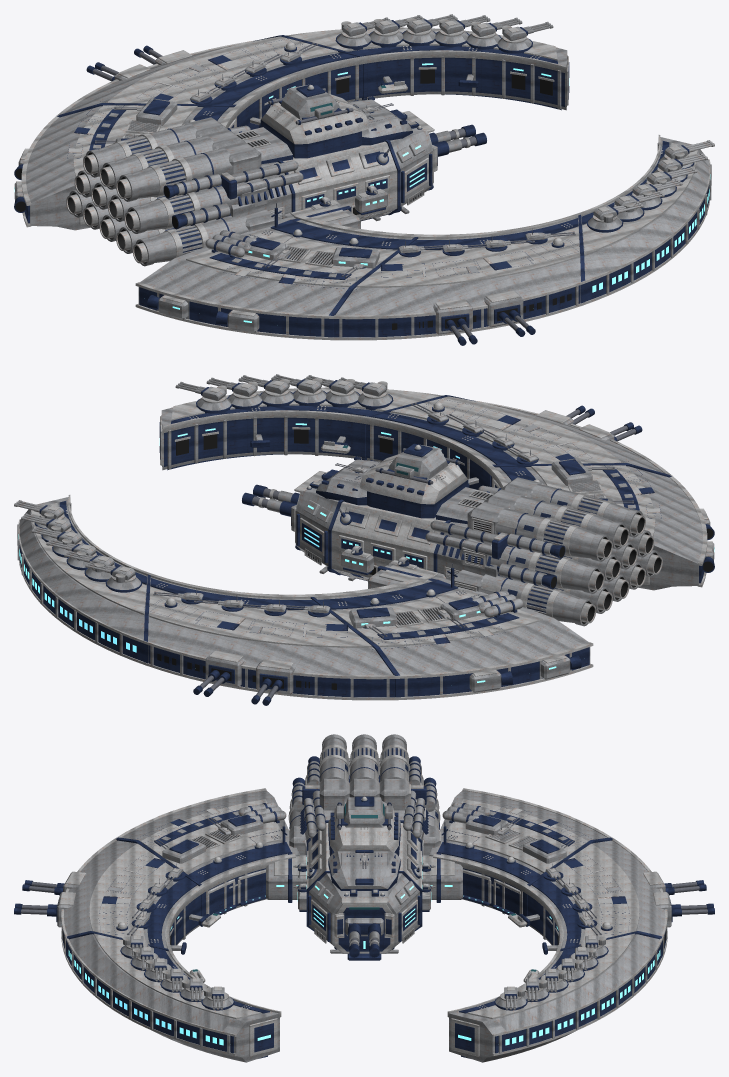
The model's file is 機戰風_聯盟.glb.
3 renders of one model, top to bottom at view 1: azimuth 30°, elevation 25°; view 2: azimuth 150°, elevation 25°; view 3: azimuth 270°, elevation 25°, orthographic. The views are drawn at different scales.
Parts seen in each view (by area): view 1: arm_aft_mid.R, arm_mid_light.R, arm_mid_mid.R, arm_mid_light, arm_fore_dark, core_mid_light, arm_aft_light.R, arm_aft_mid, arm_mid_dark.R, arm_aft_dark.R, arm_fore_mid.R, arm_mid_dark (+37 smaller); view 2: arm_aft_mid, arm_mid_light, arm_mid_mid, arm_mid_light.R, arm_fore_dark.R, core_mid_light, arm_aft_light, arm_aft_mid.R, arm_mid_dark, arm_aft_dark, arm_fore_mid, arm_mid_dark.R (+37 smaller); view 3: arm_mid_light, arm_mid_light.R, arm_fore_mid, arm_fore_mid.R, arm_aft_mid.R, arm_aft_mid, arm_aft_light, arm_aft_light.R, arm_aft_dark, arm_aft_dark.R, arm_fore_light, arm_fore_light.R (+25 smaller).
Part boxes in pixels (x1=…): arm_aft_mid.R: x1=138, y1=205, x2=412, y2=336; arm_mid_light.R: x1=330, y1=213, x2=582, y2=340; arm_mid_mid.R: x1=335, y1=217, x2=580, y2=337; arm_mid_light: x1=56, y1=36, x2=366, y2=115; arm_fore_dark: x1=253, y1=35, x2=569, y2=110; core_mid_light: x1=261, y1=93, x2=397, y2=220; arm_aft_light.R: x1=135, y1=205, x2=418, y2=339; arm_aft_mid: x1=14, y1=98, x2=236, y2=230; arm_mid_dark.R: x1=328, y1=218, x2=580, y2=345; arm_aft_dark.R: x1=139, y1=206, x2=410, y2=336; arm_fore_mid.R: x1=581, y1=137, x2=711, y2=294; arm_mid_dark: x1=57, y1=45, x2=362, y2=129; arm_aft_mid: x1=316, y1=565, x2=590, y2=696; arm_mid_light: x1=146, y1=573, x2=398, y2=700; arm_mid_mid: x1=148, y1=577, x2=393, y2=697; arm_mid_light.R: x1=362, y1=396, x2=672, y2=475; arm_fore_dark.R: x1=159, y1=395, x2=475, y2=470; core_mid_light: x1=331, y1=453, x2=467, y2=579; arm_aft_light: x1=310, y1=565, x2=593, y2=699; arm_aft_mid.R: x1=492, y1=458, x2=714, y2=590; arm_mid_dark: x1=148, y1=578, x2=400, y2=705; arm_aft_dark: x1=318, y1=566, x2=589, y2=696; arm_fore_mid: x1=17, y1=497, x2=147, y2=654; arm_mid_dark.R: x1=366, y1=405, x2=671, y2=489; arm_mid_light: x1=508, y1=838, x2=669, y2=957; arm_mid_light.R: x1=59, y1=838, x2=220, y2=957; arm_fore_mid: x1=449, y1=934, x2=659, y2=1062; arm_fore_mid.R: x1=69, y1=934, x2=279, y2=1062; arm_aft_mid.R: x1=121, y1=790, x2=306, y2=914; arm_aft_mid: x1=422, y1=790, x2=607, y2=914; arm_aft_light: x1=422, y1=788, x2=612, y2=914; arm_aft_light.R: x1=116, y1=788, x2=306, y2=914; arm_aft_dark: x1=436, y1=803, x2=574, y2=915; arm_aft_dark.R: x1=154, y1=803, x2=292, y2=915; arm_fore_light: x1=447, y1=933, x2=662, y2=1056; arm_fore_light.R: x1=66, y1=933, x2=281, y2=1056.
Size of the model in its own units: 1000 by 237 by 1200.
7 materials, 4 textured.
